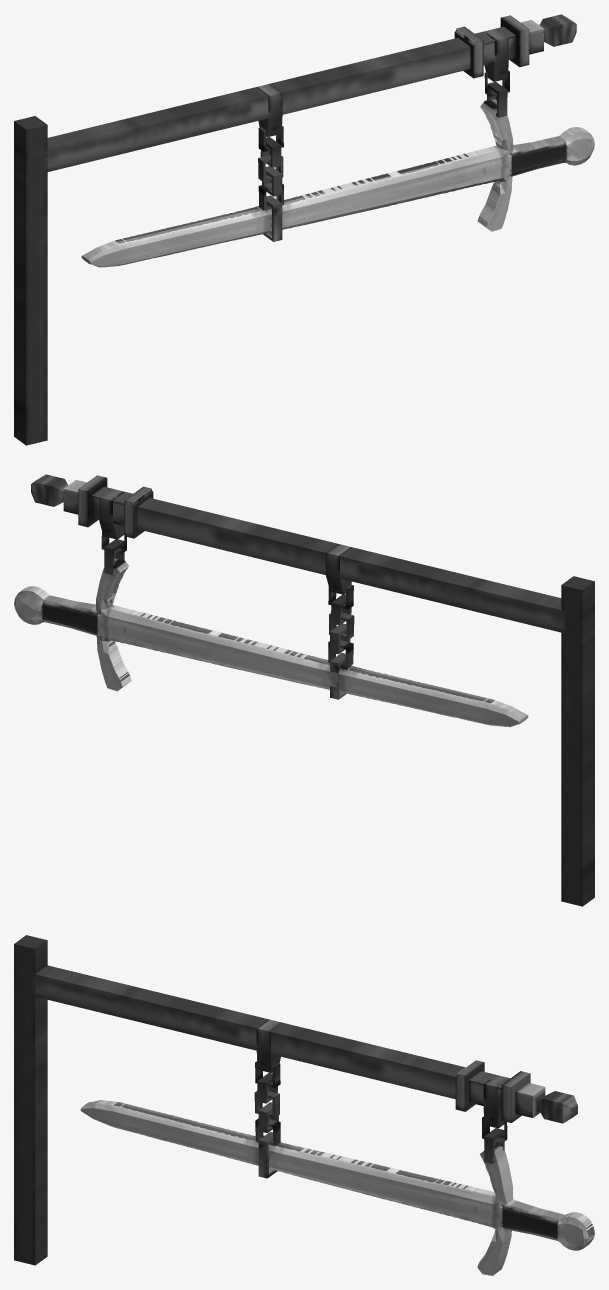
The model's file is Sign_360x6.obj.
The picture shows the model from 3 angles, top to bottom: view 1: azimuth 30°, elevation 25°; view 2: azimuth 150°, elevation 25°; view 3: azimuth 330°, elevation 25°; orthographic projection.
Parts seen in each view (by area): view 1: Sign_360x6; view 2: Sign_360x6; view 3: Sign_360x6.
Part boxes in pixels (<box>): Sign_360x6: <box>14,14,594,445</box>; Sign_360x6: <box>14,474,594,906</box>; Sign_360x6: <box>14,935,594,1275</box>.
Bounding box in the file's own units: 1.83 × 0.967 × 0.105.
